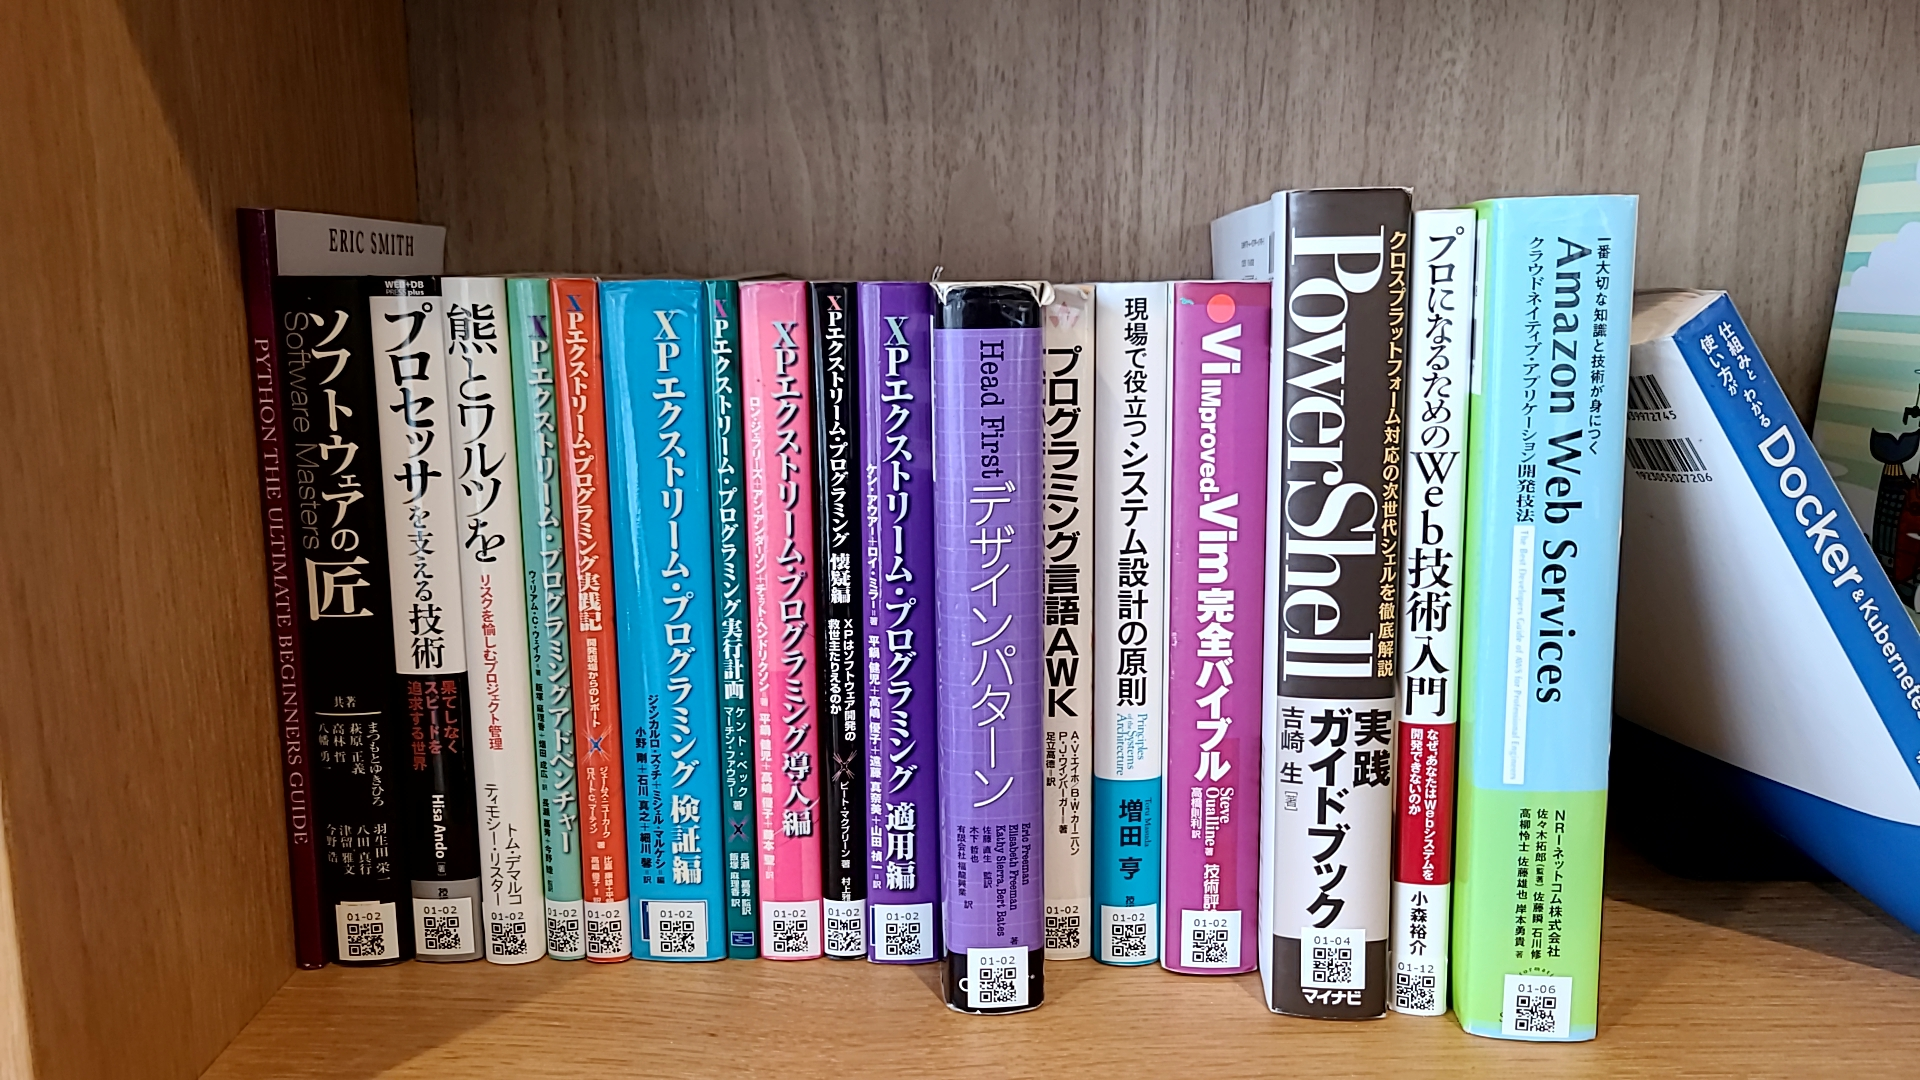book: (1476, 189, 1621, 1036), (1271, 181, 1411, 1025), (920, 272, 1051, 1013), (595, 280, 721, 967), (262, 287, 382, 971), (365, 266, 464, 968), (1168, 272, 1267, 973), (442, 268, 537, 961), (851, 273, 945, 963), (542, 268, 634, 968), (1398, 196, 1468, 1034), (1091, 276, 1175, 967), (502, 268, 584, 963), (746, 268, 822, 961), (800, 272, 868, 961), (1035, 276, 1095, 967), (705, 277, 752, 960)
